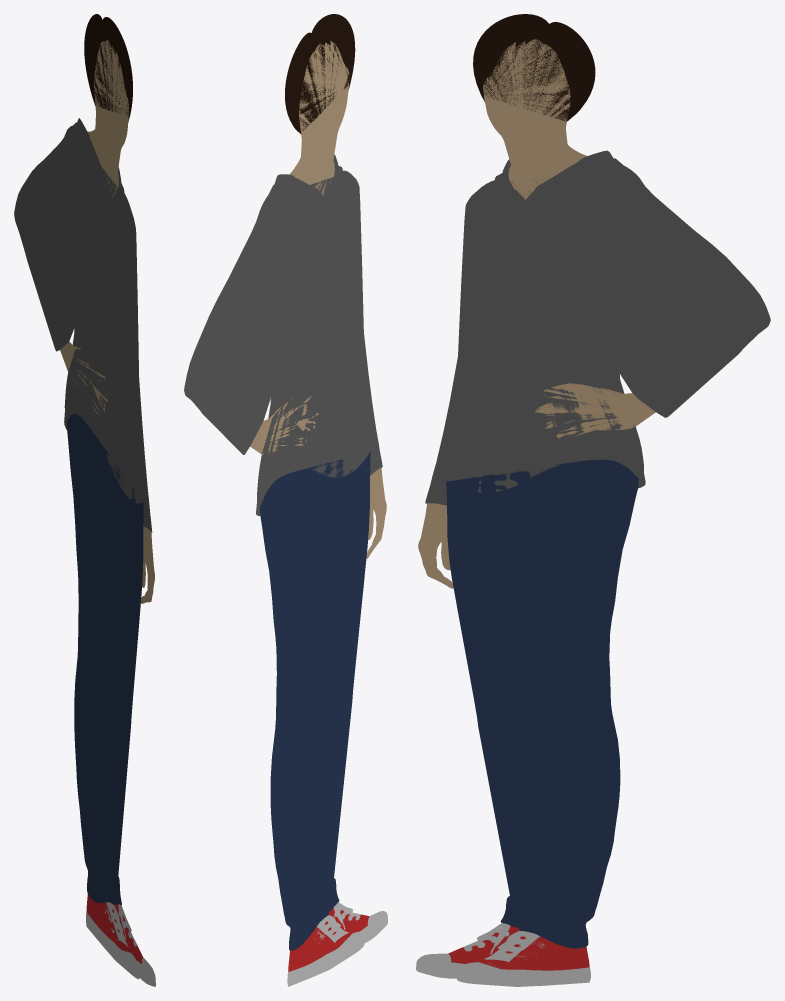
The picture shows the model from 3 angles, left to right: view 1: azimuth 30°, elevation 25°; view 2: azimuth 150°, elevation 25°; view 3: azimuth 270°, elevation 25°; orthographic projection. The views are drawn at different scales.
Parts seen in each view (by area): view 1: Stacy1; view 2: Stacy1; view 3: Stacy1.
Part boxes in pixels (x1,y1,x2,y2): Stacy1: (14,14,155,986); Stacy1: (184,14,387,986); Stacy1: (416,14,770,986).
Size of what is drawn, in the model's own units: 0.0541 by 1.67 by 0.5503.
